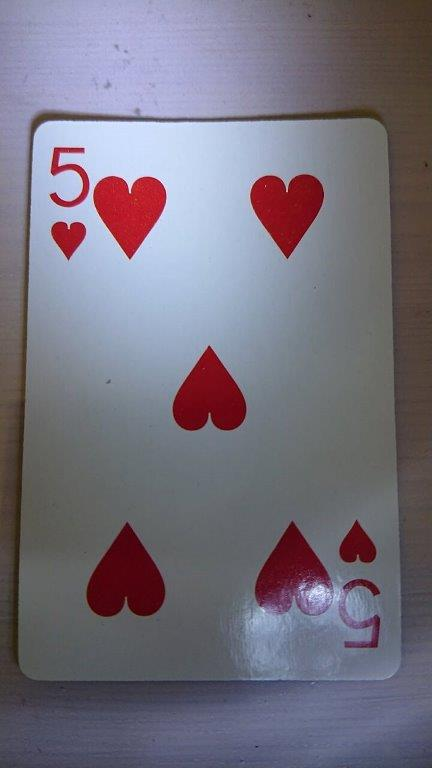5H: (15, 115, 404, 684)
